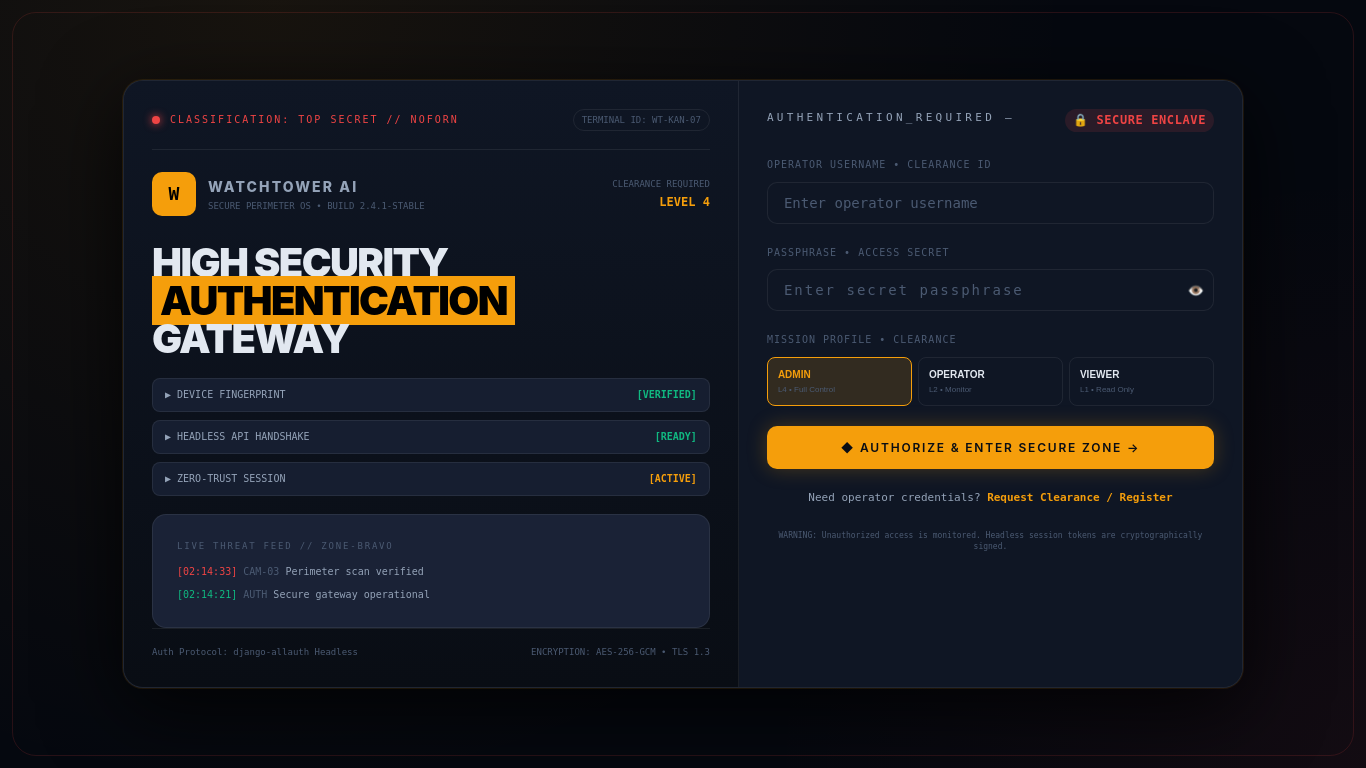
Test case: Auth Integration Tests (MSW + React Testing Library) › Scenario 2: Invalid credentials — renders inline error banner and stays on /login
Type "wrong_user" into the field with test id "login-username-input" at (990, 203), box [767,182,1214,224]
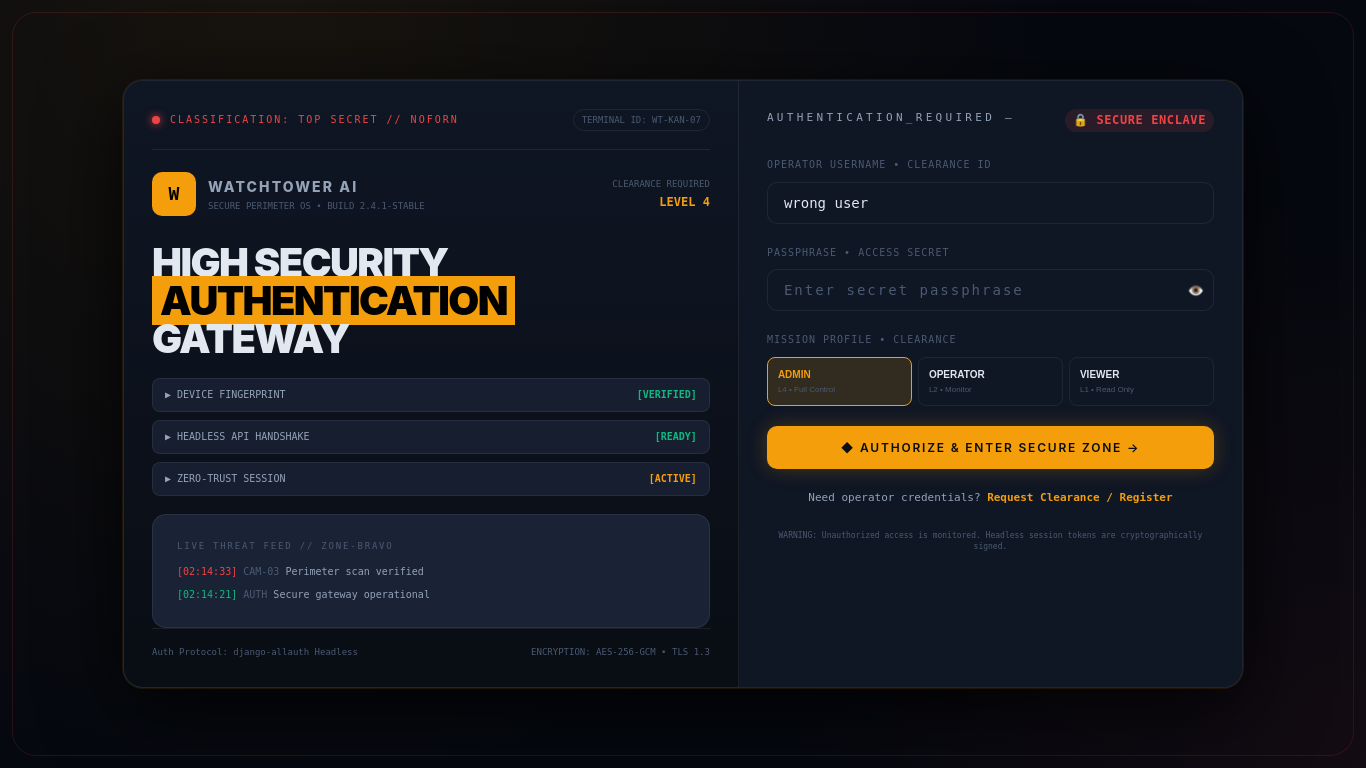
Type "WrongPass!" into the password field with test id "login-password-input" at (990, 290), box [767,269,1214,311]
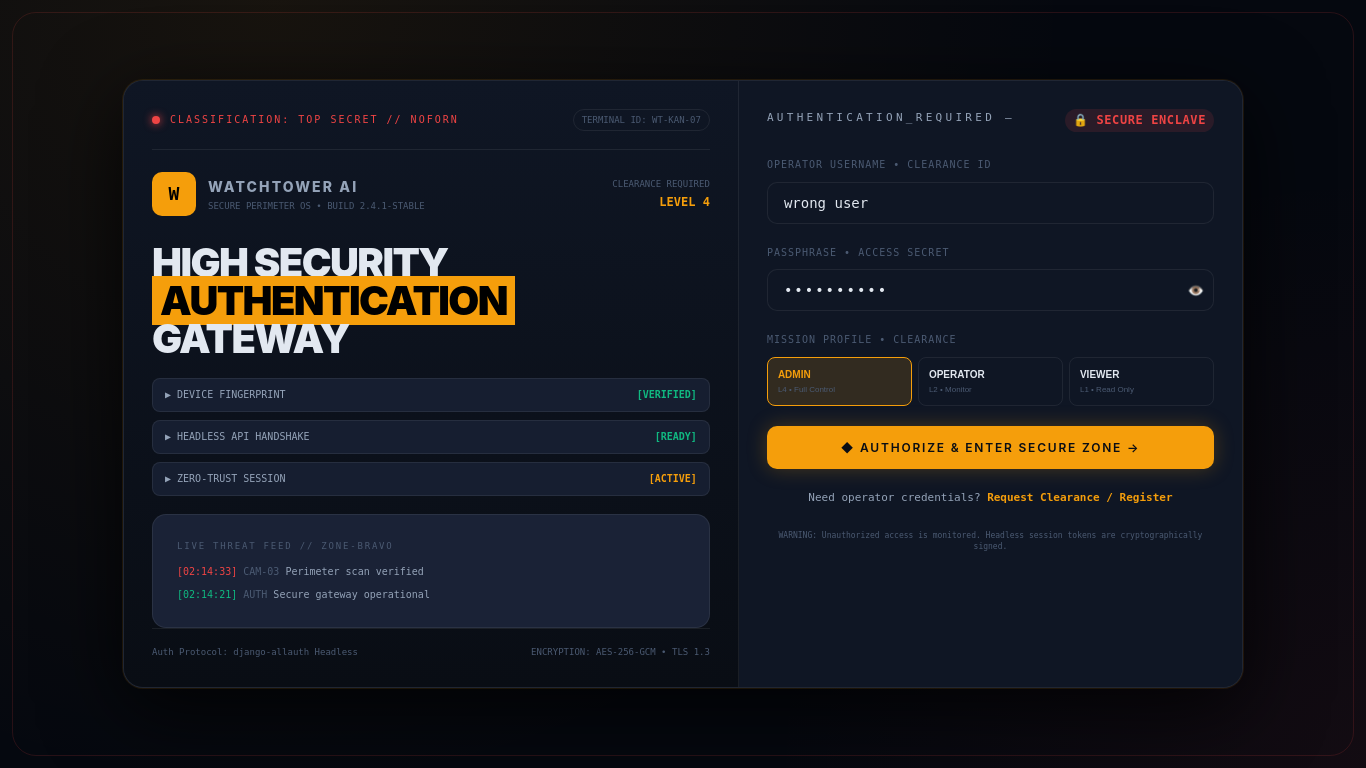
Click the button with test id "login-submit-button" at (990, 447), box [767,426,1214,468]
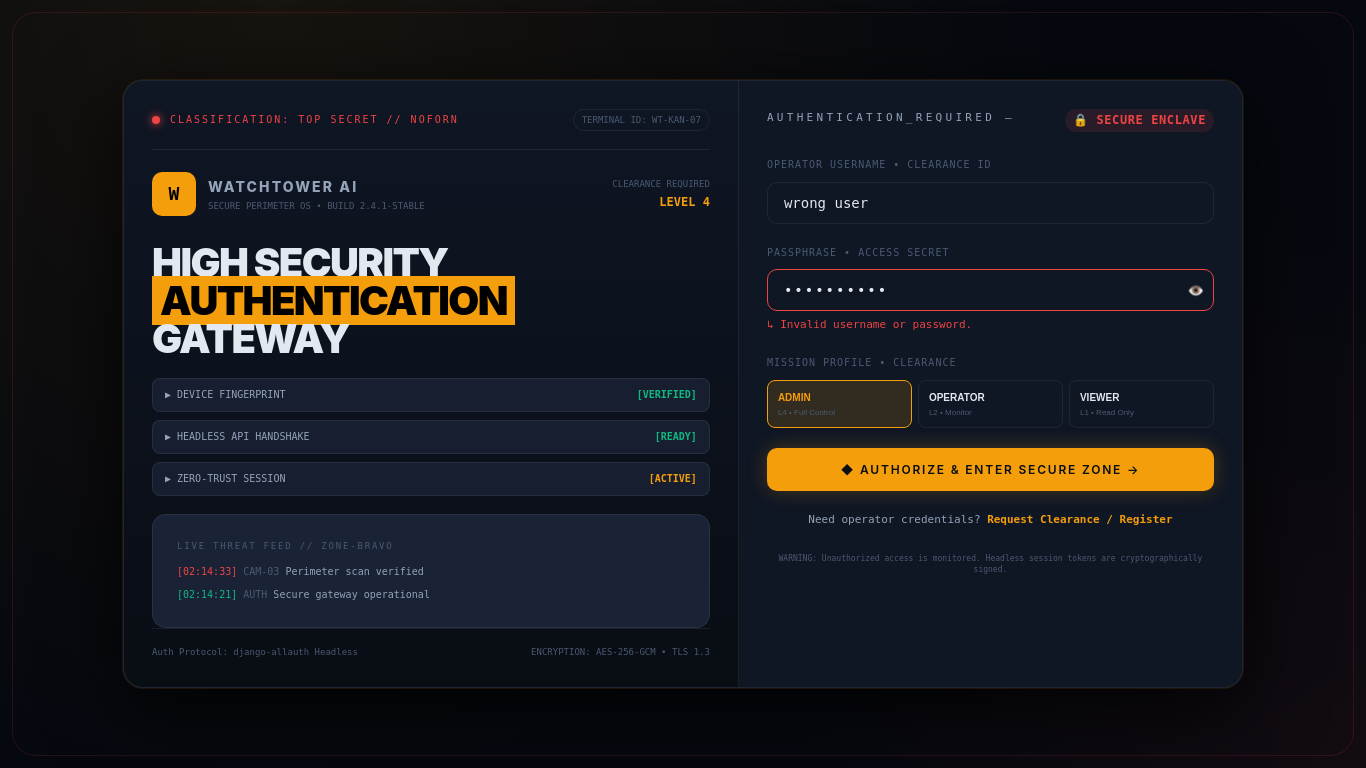
expect the message shows "Invalid username or password": met, box [780,318,972,331]
